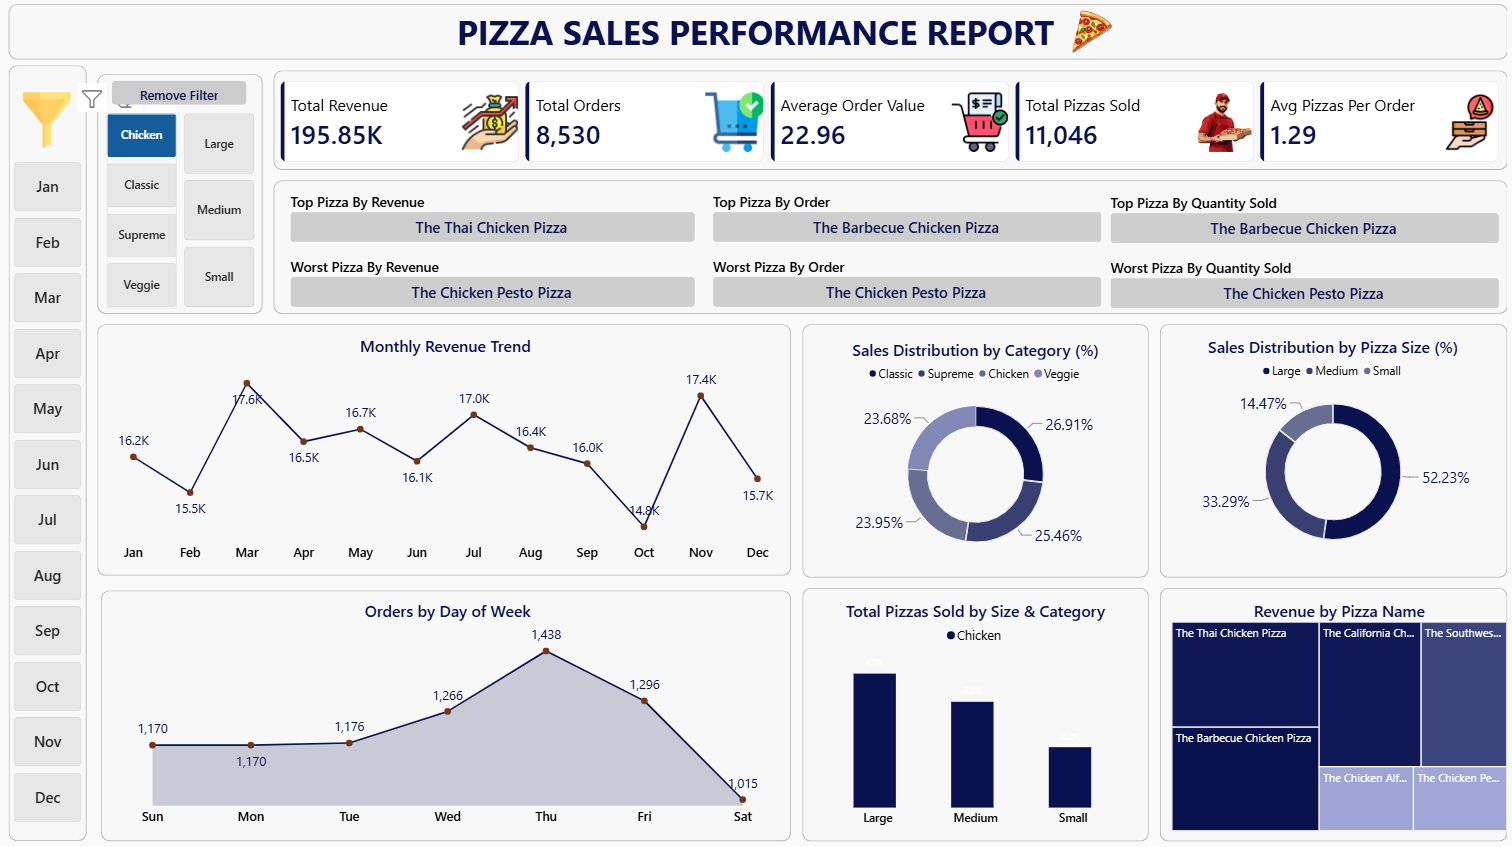

This screenshot's page, from the dashboard's own definition file:
{"tool":"powerbi","page":{"name":"DASHBOARD","canvas":[1920,1080],"ordinal":0},"visuals":[{"type":"shape","box":[12.9,10,1892.9,71.4],"z":0,"group":"g1"},{"type":"group","id":"g1","title":"Group 1","box":[12.9,10,1892.9,1058.6],"z":0},{"type":"advancedSlicerVisual","title":"Top Pizza By Revenue","fields":{"Values":["PIZZA SALES.pizza_name"]},"box":[368.6,247.6,510,62.9],"z":0,"group":"g2"},{"type":"shape","box":[13.2,88,100,980],"z":1000,"group":"g1"},{"type":"cardVisual","fields":{"Data":["PIZZA SALES.Total Revenue","PIZZA SALES.Total Orders","PIZZA SALES.Average Order Value","PIZZA SALES.Total Pizzas Sold","PIZZA SALES.Avg Pizzas Per Order"]},"box":[357.1,107.1,1537.1,102.9],"z":1000},{"type":"advancedSlicerVisual","title":"Worst Pizza By Revenue","fields":{"Values":["PIZZA SALES.pizza_name"]},"box":[368.6,329,510,62.9],"z":1000,"group":"g2"},{"type":"shape","box":[125.2,98,210,304],"z":2000,"group":"g1"},{"type":"lineChart","title":"Monthly Revenue Trend","fields":{"Category":["PIZZA SALES.Month Name"],"Y":["PIZZA SALES.Total Revenue"]},"box":[125.6,413.3,876.7,322.2],"z":2000},{"type":"shape","box":[124.2,413.3,876.7,318.9],"z":3000,"group":"g1"},{"type":"lineChart","title":"Orders by Day of Week","fields":{"Category":["PIZZA SALES.Day Name"],"Y":["PIZZA SALES.Total Orders"]},"box":[130,748,876,320],"z":3000},{"type":"donutChart","title":"Sales Distribution by Category (%)","fields":{"Category":["PIZZA SALES.pizza_category"],"Y":["PIZZA SALES.Total Revenue"]},"box":[1014.3,418.6,438.6,314.3],"z":4000},{"type":"shape","box":[129.2,750,872,318],"z":4000,"group":"g1"},{"type":"shape","box":[1014.3,414.3,438.6,321.4],"z":5000,"group":"g1"},{"type":"donutChart","title":"Sales Distribution by Pizza Size (%)","fields":{"Category":["PIZZA SALES.pizza_size"],"Y":["PIZZA SALES.Total Revenue"]},"box":[1465.7,414.3,438.6,314.3],"z":5000},{"type":"shape","box":[1465.8,414.3,440,321.4],"z":6000,"group":"g1"},{"type":"columnChart","title":"Total Pizzas Sold by Size & Category","fields":{"Category":["PIZZA SALES.pizza_size"],"Series":["PIZZA SALES.pizza_category"],"Y":["PIZZA SALES.Total Pizzas Sold"]},"box":[1014.3,747.1,438.6,321.4],"z":6000},{"type":"shape","box":[347.2,92.9,1558.6,127.1],"z":7000,"group":"g1"},{"type":"treemap","title":"Revenue by Pizza Name","fields":{"Group":["PIZZA SALES.pizza_name"],"Values":["PIZZA SALES.Total Revenue"]},"box":[1465.7,747.1,454.3,321.4],"z":7000},{"type":"shape","box":[347.2,232.9,1558.6,170],"z":8000,"group":"g1"},{"type":"advancedSlicerVisual","title":"Top Pizza By Order","fields":{"Values":["PIZZA SALES.pizza_name"]},"box":[902.9,247.8,490,62.9],"z":8000},{"type":"advancedSlicerVisual","title":"Worst Pizza By Order","fields":{"Values":["PIZZA SALES.pizza_name"]},"box":[902.9,329.2,490,62.9],"z":9000},{"type":"shape","box":[1014.3,747.1,438.6,321.4],"z":9000,"group":"g1"},{"type":"group","id":"g2","title":"Group 3","box":[368.6,247.6,510,144.3],"z":10000},{"type":"shape","box":[1465.8,747.1,440,321.4],"z":10000,"group":"g1"},{"type":"advancedSlicerVisual","title":"Top Pizza By Quantity Sold","fields":{"Values":["PIZZA SALES.pizza_name"]},"box":[1404.3,249,490,62.9],"z":11000},{"type":"advancedSlicerVisual","title":"Worst Pizza By Quantity Sold","fields":{"Values":["PIZZA SALES.pizza_name"]},"box":[1404.3,330.4,490,62.9],"z":12000},{"type":"advancedSlicerVisual","fields":{"Values":["PIZZA SALES.Month Name"]},"box":[21,210,84,842],"z":13000},{"type":"advancedSlicerVisual","fields":{"Values":["PIZZA SALES.pizza_category"]},"box":[136.5,147.5,88.5,246],"z":14000},{"type":"advancedSlicerVisual","fields":{"Values":["PIZZA SALES.pizza_size"]},"box":[235.5,147.5,88.5,246],"z":15000},{"type":"actionButton","box":[144.3,107.1,170,30],"z":15001},{"type":"image","box":[17.1,121.4,88.6,70],"z":15002},{"type":"textbox","box":[10,8,1892.9,71.4],"z":15003},{"type":"image","box":[1327.1,14.3,101.4,62.9],"z":15004},{"type":"textbox","box":[105.7,21.4,184.3,47.1],"z":15006}]}

Visuals, with their boxes in screenshot pixels (x1, y1, x2, y2), scaled from the page's 1920x1080 canvas onto the 1512x847 screenshot:
shape: (left=10, top=8, right=1501, bottom=64)
"Group 1" group: (left=10, top=8, right=1501, bottom=838)
"Top Pizza By Revenue" advancedSlicerVisual: (left=290, top=194, right=692, bottom=244)
shape: (left=10, top=69, right=89, bottom=838)
cardVisual - PIZZA SALES.Total Revenue x PIZZA SALES.Total Orders: (left=281, top=84, right=1492, bottom=165)
"Worst Pizza By Revenue" advancedSlicerVisual: (left=290, top=258, right=692, bottom=307)
shape: (left=99, top=77, right=264, bottom=315)
"Monthly Revenue Trend" lineChart: (left=99, top=324, right=789, bottom=577)
shape: (left=98, top=324, right=788, bottom=574)
"Orders by Day of Week" lineChart: (left=102, top=587, right=792, bottom=838)
"Sales Distribution by Category (%)" donutChart: (left=799, top=328, right=1144, bottom=575)
shape: (left=102, top=588, right=788, bottom=838)
shape: (left=799, top=325, right=1144, bottom=577)
"Sales Distribution by Pizza Size (%)" donutChart: (left=1154, top=325, right=1500, bottom=571)
shape: (left=1154, top=325, right=1501, bottom=577)
"Total Pizzas Sold by Size & Category" columnChart: (left=799, top=586, right=1144, bottom=838)
shape: (left=273, top=73, right=1501, bottom=173)
"Revenue by Pizza Name" treemap: (left=1154, top=586, right=1511, bottom=838)
shape: (left=273, top=183, right=1501, bottom=316)
"Top Pizza By Order" advancedSlicerVisual: (left=711, top=194, right=1097, bottom=244)
"Worst Pizza By Order" advancedSlicerVisual: (left=711, top=258, right=1097, bottom=308)
shape: (left=799, top=586, right=1144, bottom=838)
"Group 3" group: (left=290, top=194, right=692, bottom=307)
shape: (left=1154, top=586, right=1501, bottom=838)
"Top Pizza By Quantity Sold" advancedSlicerVisual: (left=1106, top=195, right=1492, bottom=245)
"Worst Pizza By Quantity Sold" advancedSlicerVisual: (left=1106, top=259, right=1492, bottom=308)
advancedSlicerVisual - PIZZA SALES.Month Name: (left=17, top=165, right=83, bottom=825)
advancedSlicerVisual - PIZZA SALES.pizza_category: (left=107, top=116, right=177, bottom=309)
advancedSlicerVisual - PIZZA SALES.pizza_size: (left=185, top=116, right=255, bottom=309)
actionButton: (left=114, top=84, right=248, bottom=108)
image: (left=13, top=95, right=83, bottom=150)
textbox: (left=8, top=6, right=1499, bottom=62)
image: (left=1045, top=11, right=1125, bottom=61)
textbox: (left=83, top=17, right=228, bottom=54)
